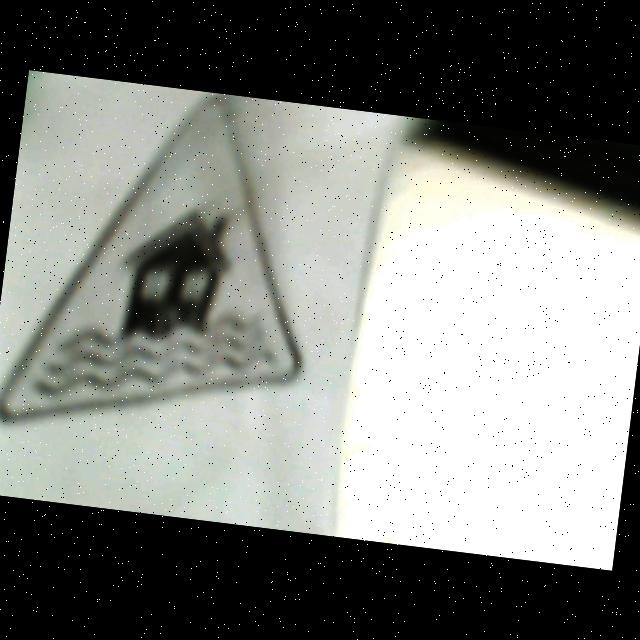Tsunami: (0, 96, 297, 421)
